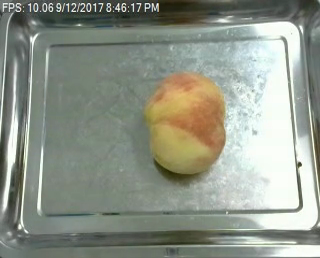Peach: (145, 70, 226, 175)
